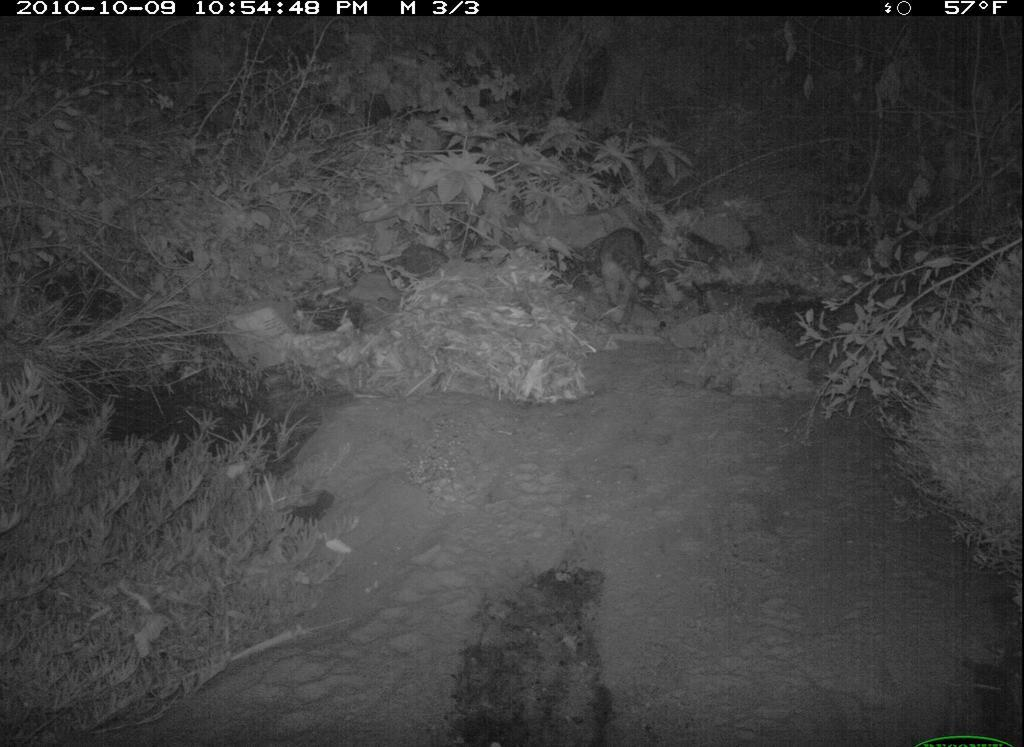raccoon: (584, 218, 670, 340)
